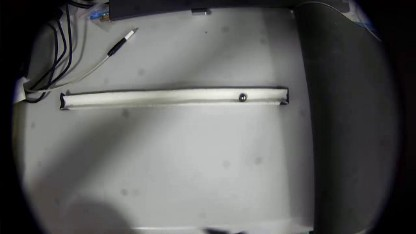gangzhu: (237, 93, 247, 103)
